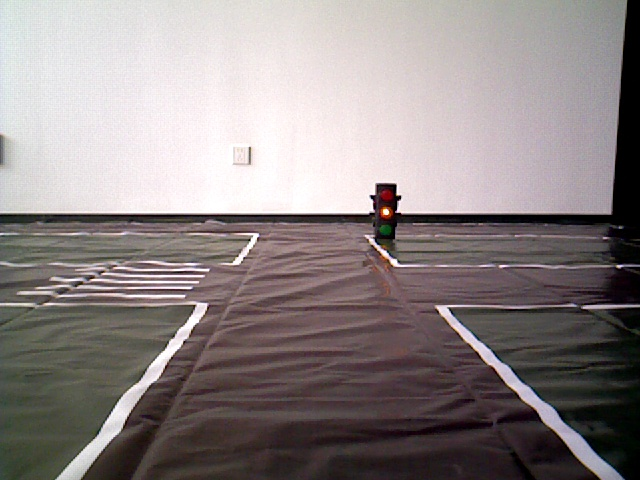yellow: (370, 183, 398, 240)
